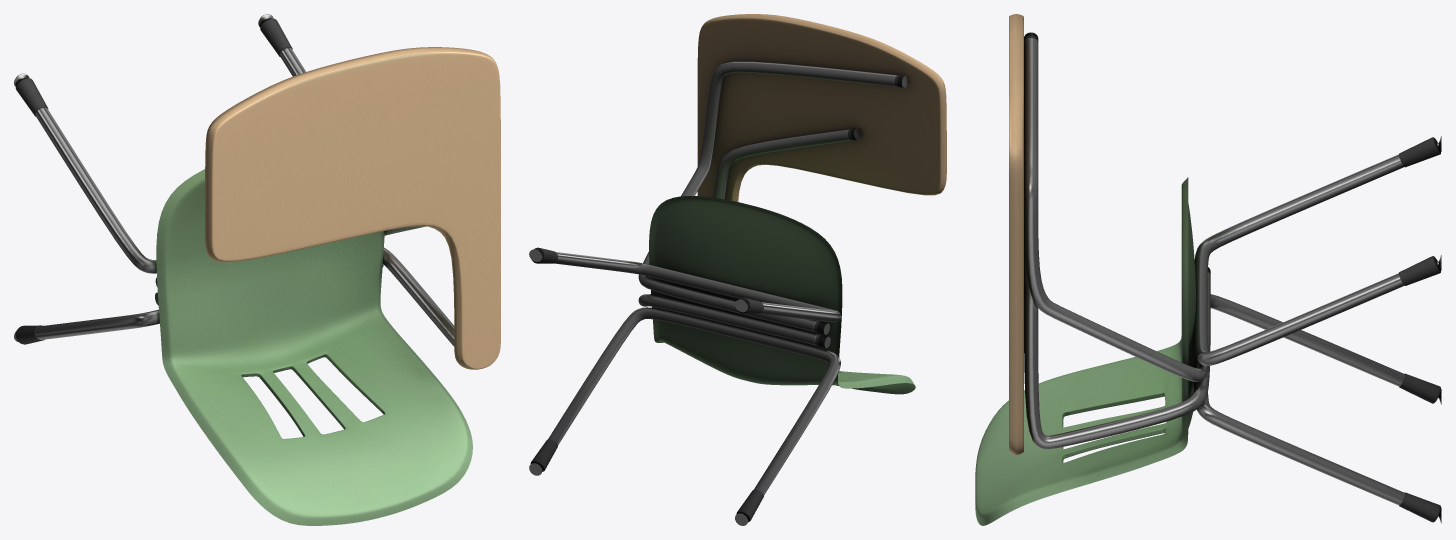
File: 10246_School_Desk_v1_L3.obj
3 views of the same model, side by side, from view 1: azimuth 30°, elevation 25°; view 2: azimuth 150°, elevation 25°; view 3: azimuth 270°, elevation 25° (orthographic). The views are drawn at different scales.
Visible parts, largest first — view 1: 10246_School_Desk_v1_SG; view 2: 10246_School_Desk_v1_SG; view 3: 10246_School_Desk_v1_SG.
Part boxes in pixels (<box>): 10246_School_Desk_v1_SG: <box>14,14,500,525</box>; 10246_School_Desk_v1_SG: <box>529,14,946,525</box>; 10246_School_Desk_v1_SG: <box>975,14,1441,525</box>.
Size of the model in its own units: 56.91 by 82.39 by 78.94.
Materials: 1 (1 with a texture image).
